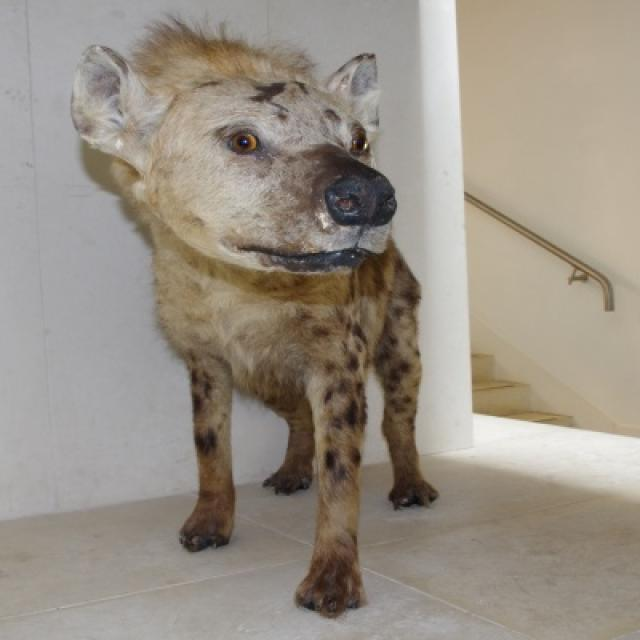hyena: (69, 21, 438, 621)
